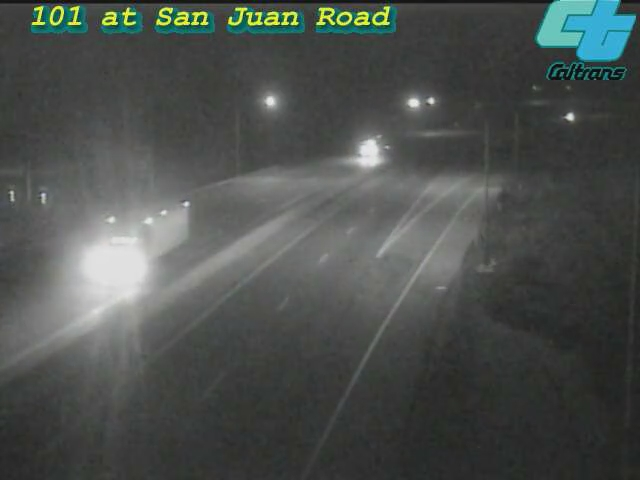vehicle: (92, 205, 172, 285), (348, 124, 398, 174), (545, 92, 595, 142)
